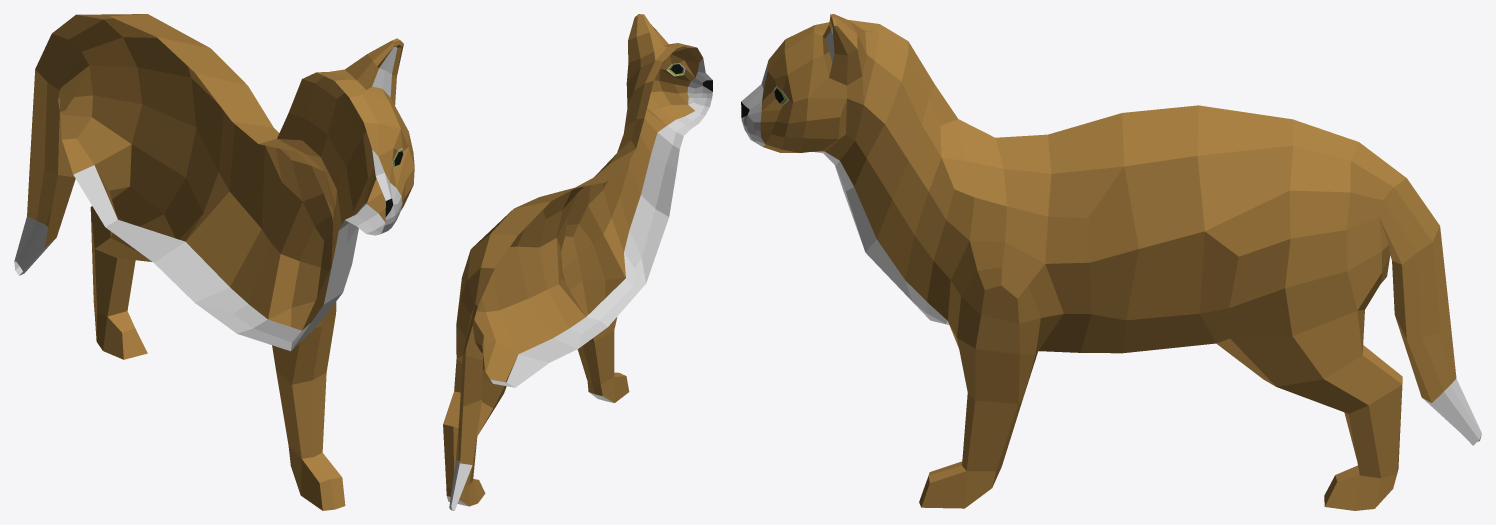
File: cat.glb
3 renders of one model, left to right at view 1: azimuth 30°, elevation 25°; view 2: azimuth 150°, elevation 25°; view 3: azimuth 270°, elevation 25°, orthographic. The views are drawn at different scales.
Parts seen in each view (by area): view 1: cat; view 2: cat; view 3: cat.
Part boxes in pixels (bbox=[...]): cat: bbox=[14, 14, 414, 510]; cat: bbox=[443, 14, 712, 510]; cat: bbox=[741, 14, 1481, 510].
Size of the model in its own units: 0.0672 by 0.3622 by 0.4913.
